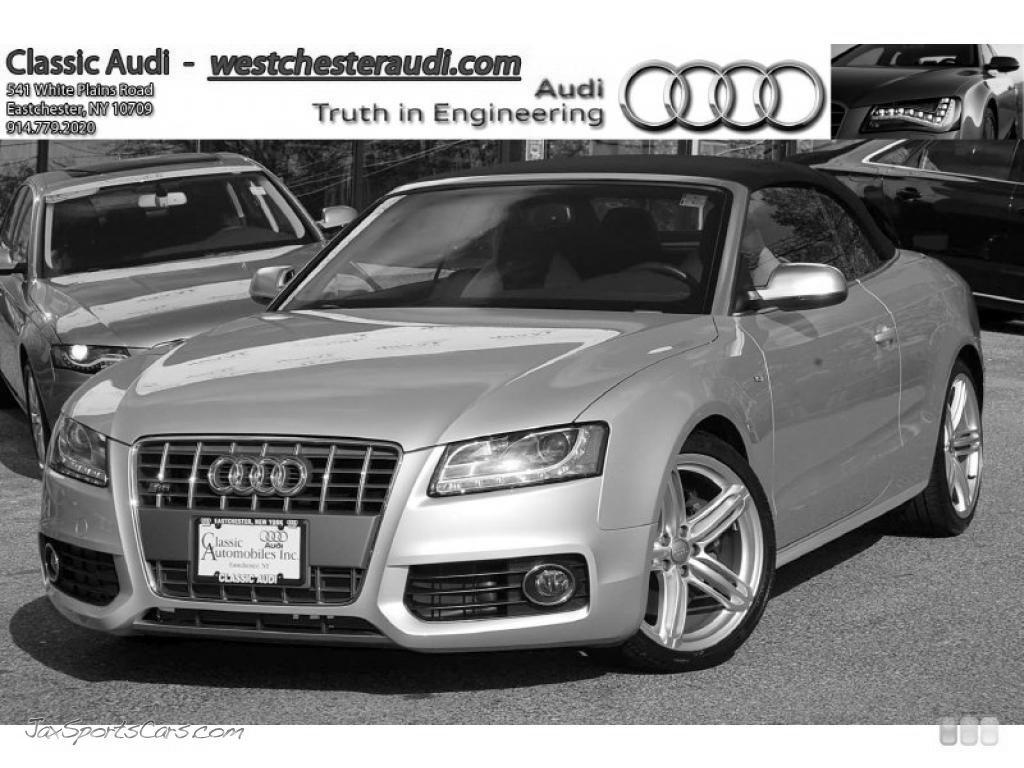car: (36, 178, 988, 669)
